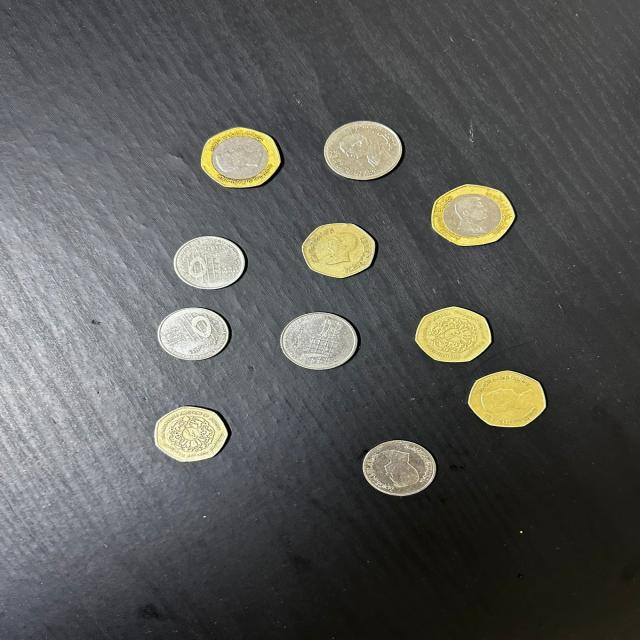10-coins: (323, 121, 402, 180), (279, 312, 359, 370)
25-coins: (467, 368, 546, 428), (412, 306, 494, 363), (299, 222, 378, 280), (152, 404, 229, 462)
5-coins: (361, 441, 438, 496), (156, 306, 231, 361), (172, 236, 247, 290)
50-coins: (430, 184, 518, 246), (199, 127, 285, 190)
